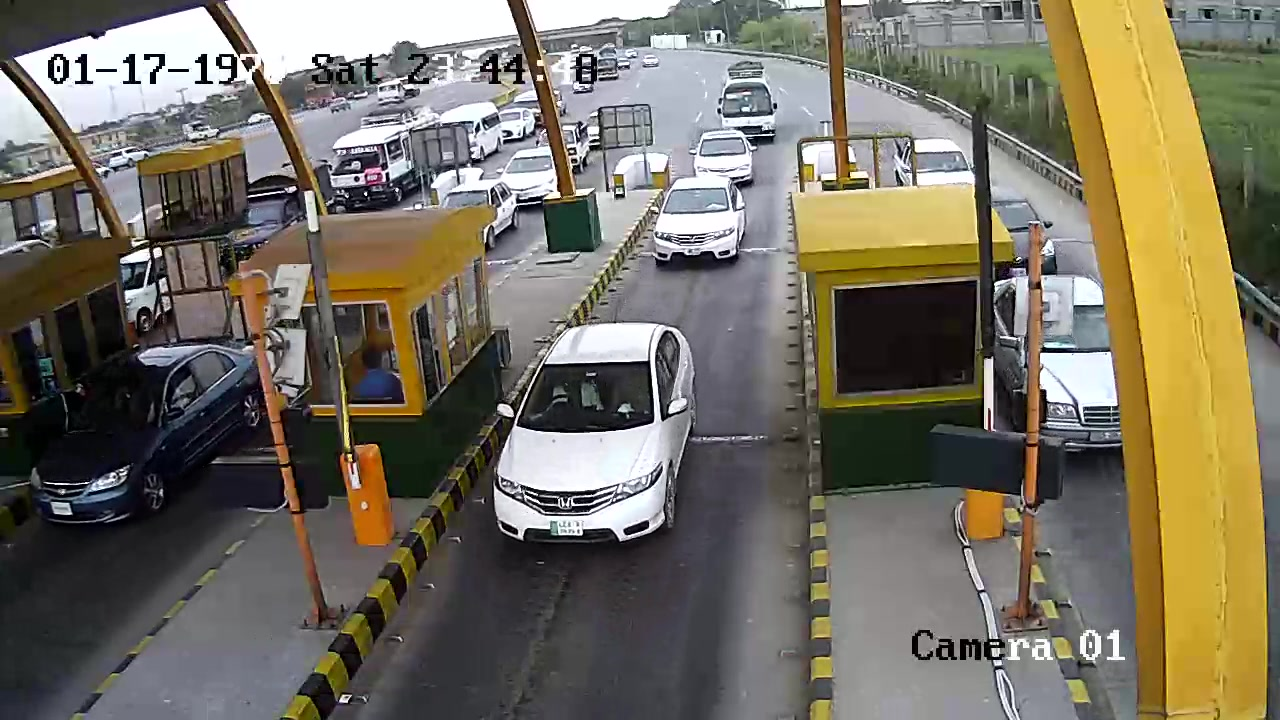F1: (483, 305, 713, 547), (655, 173, 750, 268)
